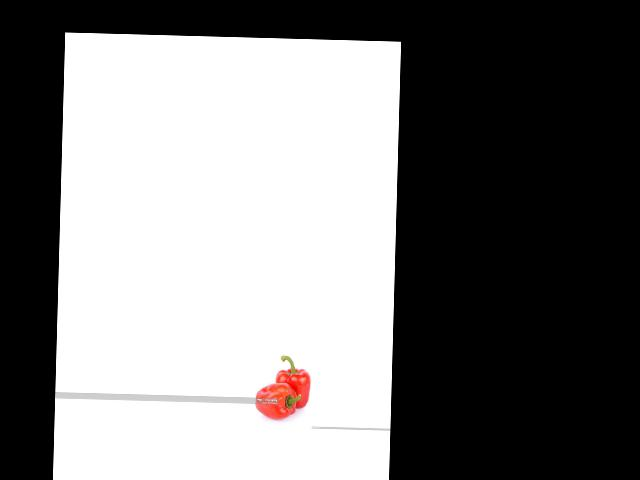bell_pepper: (249, 378, 300, 419)
